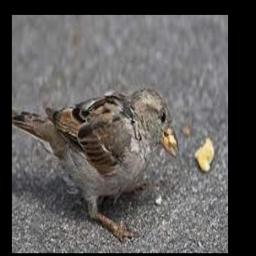Sparrow: (12, 88, 180, 241)
